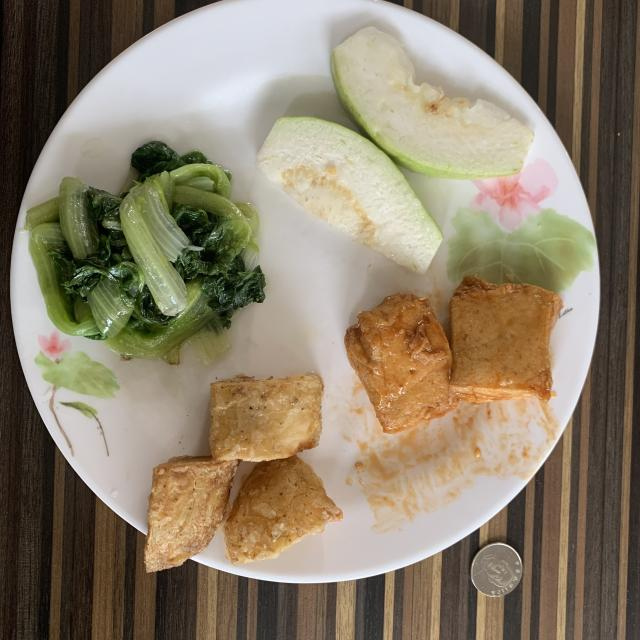coin: (471, 542, 522, 598)
creamy tofu: (345, 275, 562, 434)
fried potato: (145, 375, 342, 571)
guava -sliced-: (256, 28, 534, 274)
mustard greens: (29, 141, 265, 360)
